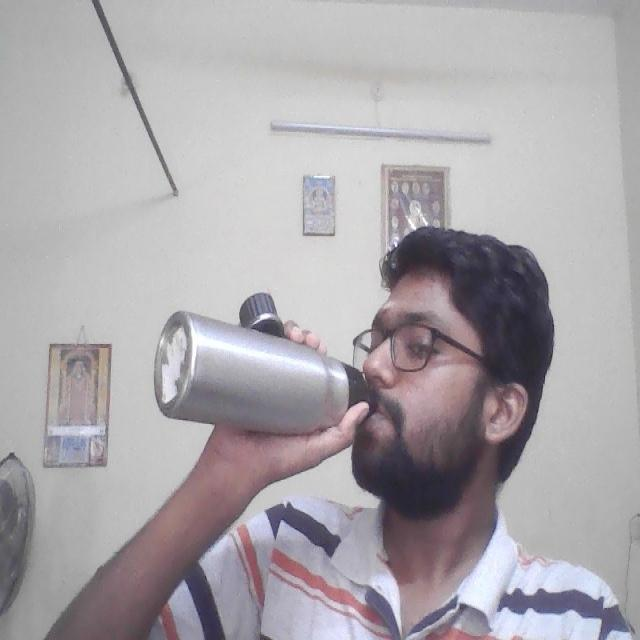Drinking: (136, 279, 366, 443)
